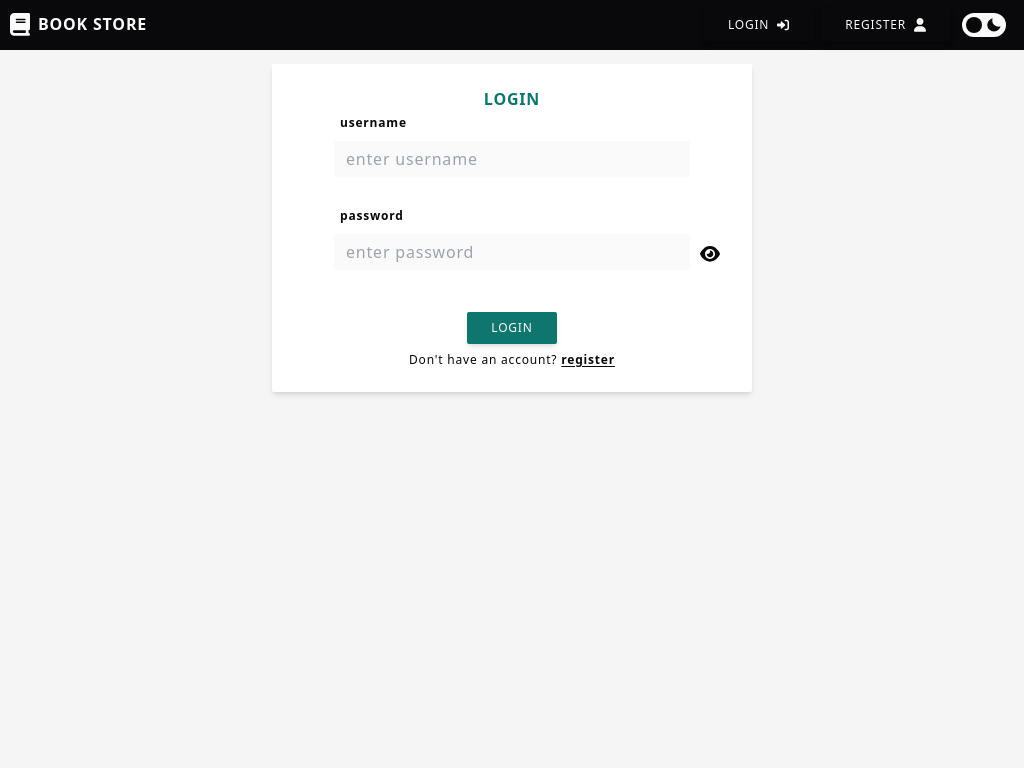
Test: Routing › Redirect login to register
Expected: the heading "LOGIN" is shown, [484, 88, 540, 110]
Click the button "register".
click(886, 25)  # box [821, 8, 950, 42]
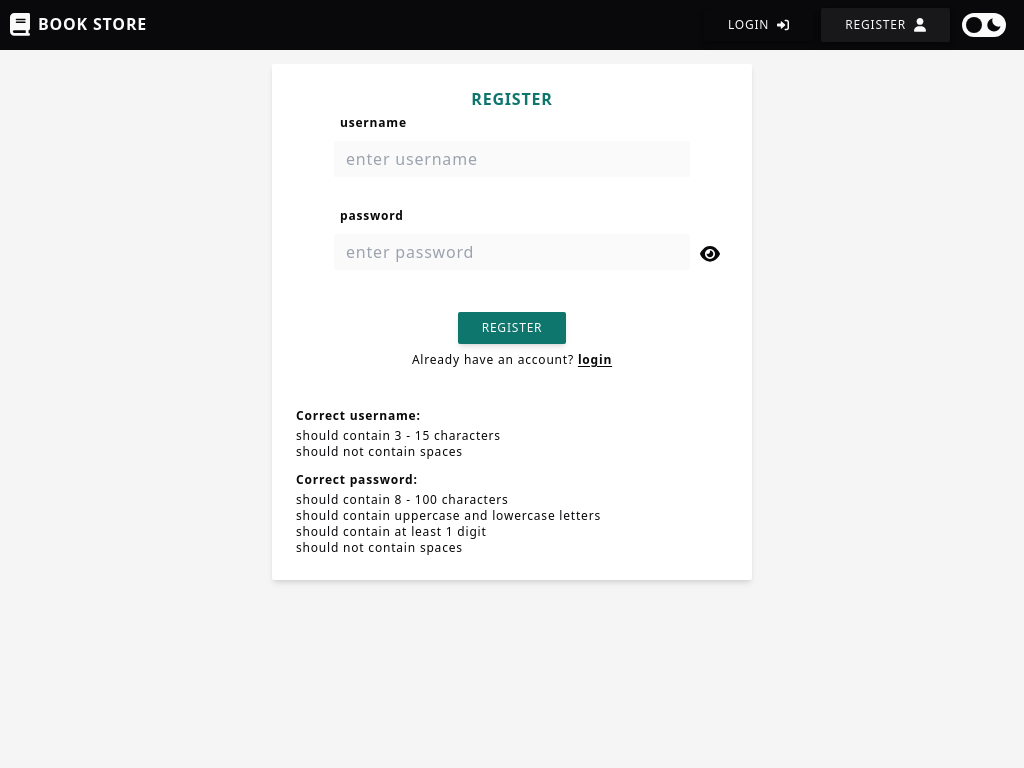
Result: the heading "REGISTER" is shown at [471, 88, 553, 110]
